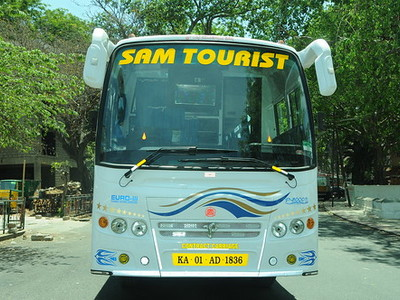numberplate: (170, 252, 250, 268)
